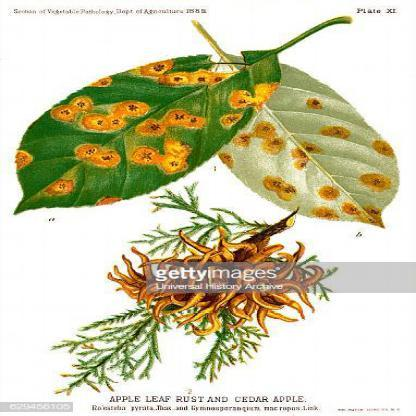Apple rust leaf: (10, 36, 293, 236), (194, 38, 407, 241)
